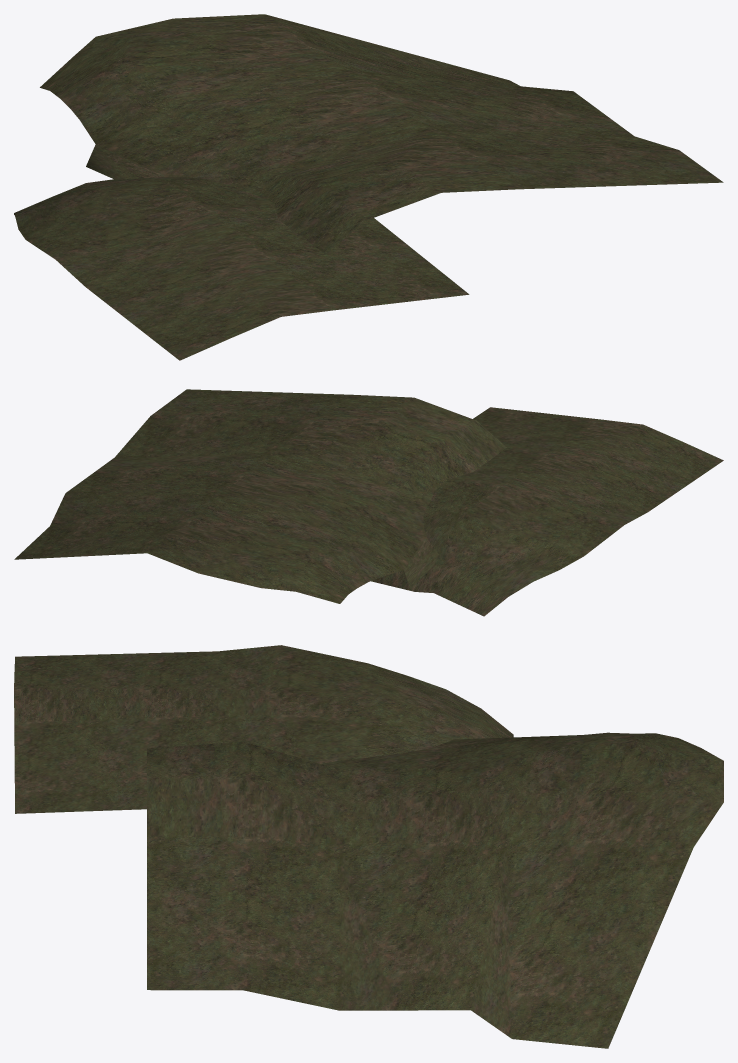
Rendered from menu_terrain_base05.fbx.
The picture shows the model from 3 angles, top to bottom: view 1: azimuth 30°, elevation 25°; view 2: azimuth 150°, elevation 25°; view 3: azimuth 270°, elevation 25°; orthographic projection. The views are drawn at different scales.
Visible parts, largest first — view 1: Material_#238683241/grass_shadow; view 2: Material_#238683241/grass_shadow; view 3: Material_#238683241/grass_shadow.
Boxes of the visible parts, x1,y1,x2,y2 form: Material_#238683241/grass_shadow: (14, 14, 723, 360); Material_#238683241/grass_shadow: (14, 389, 723, 616); Material_#238683241/grass_shadow: (14, 645, 723, 1048).
Bounding box in the file's own units: 19.57 × 3.5 × 18.46.
